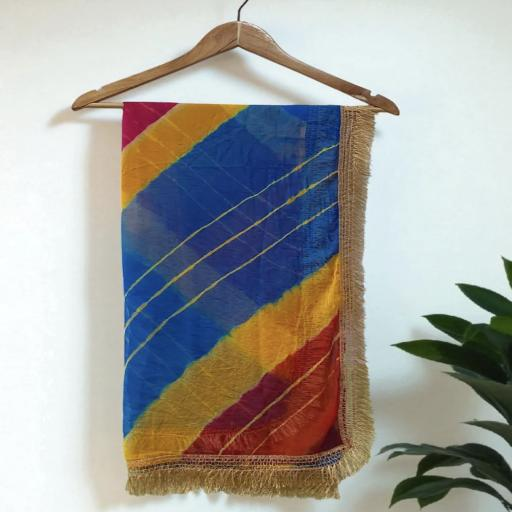Dupatta: (96, 88, 384, 502)
